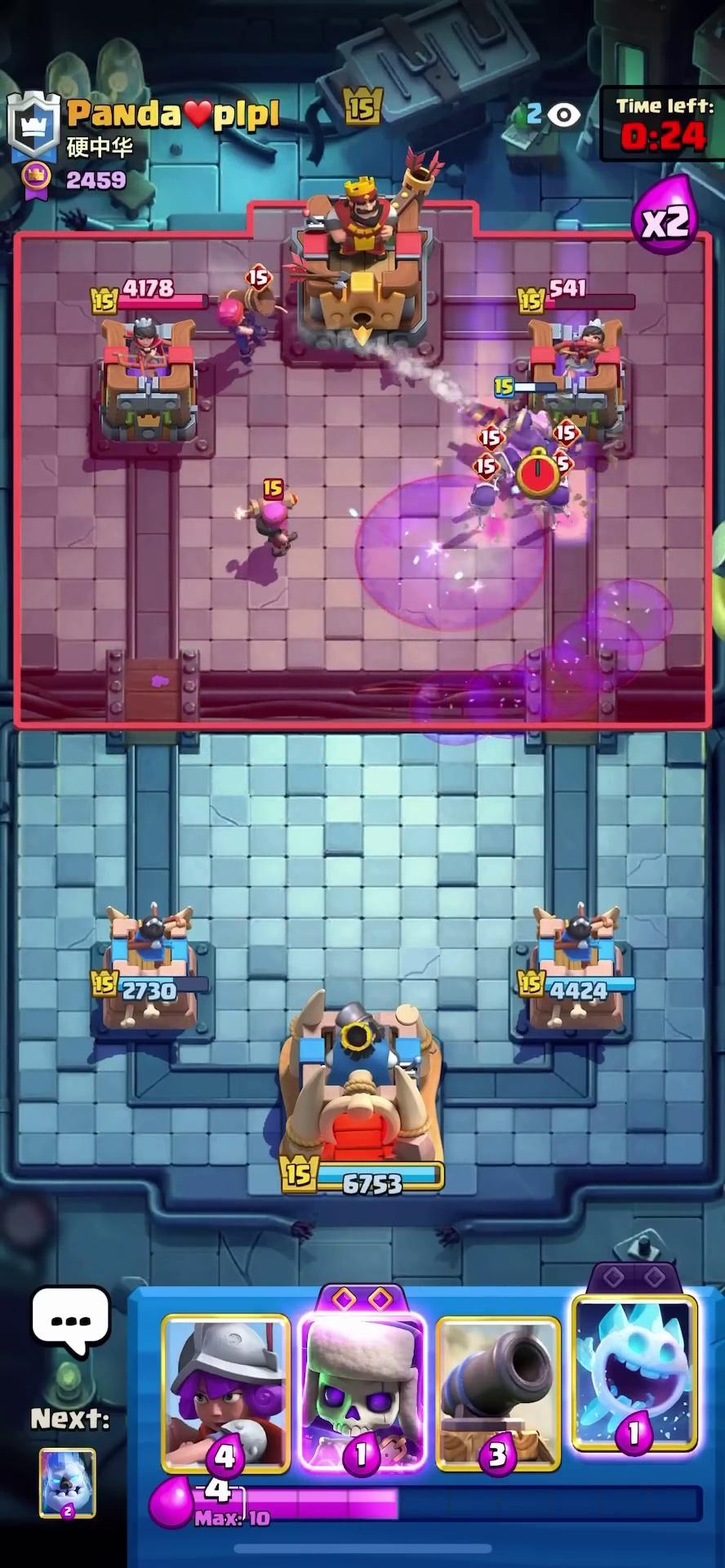hog_rider: (492, 390, 561, 478)
